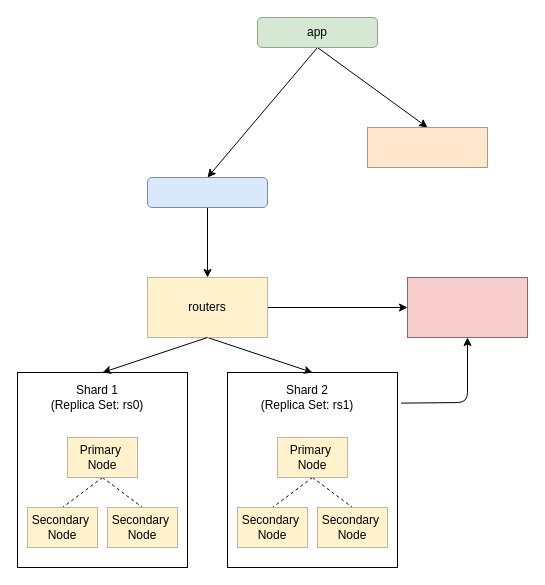
Some shapes in this 545 by 585 pixel diagram are drawn without their labels. The shapes that lost their labels are listed below. From the top down, each one's centre as x and y in pixels, then its label:
At [427,147]: "redis cache".
At [207,192]: "driver".
At [467,307]: "config-servers".
